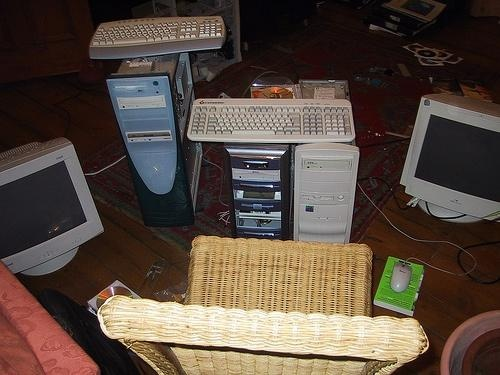chair: (101, 234, 432, 375)
tvmonitor: (1, 135, 104, 273), (400, 96, 500, 223)
